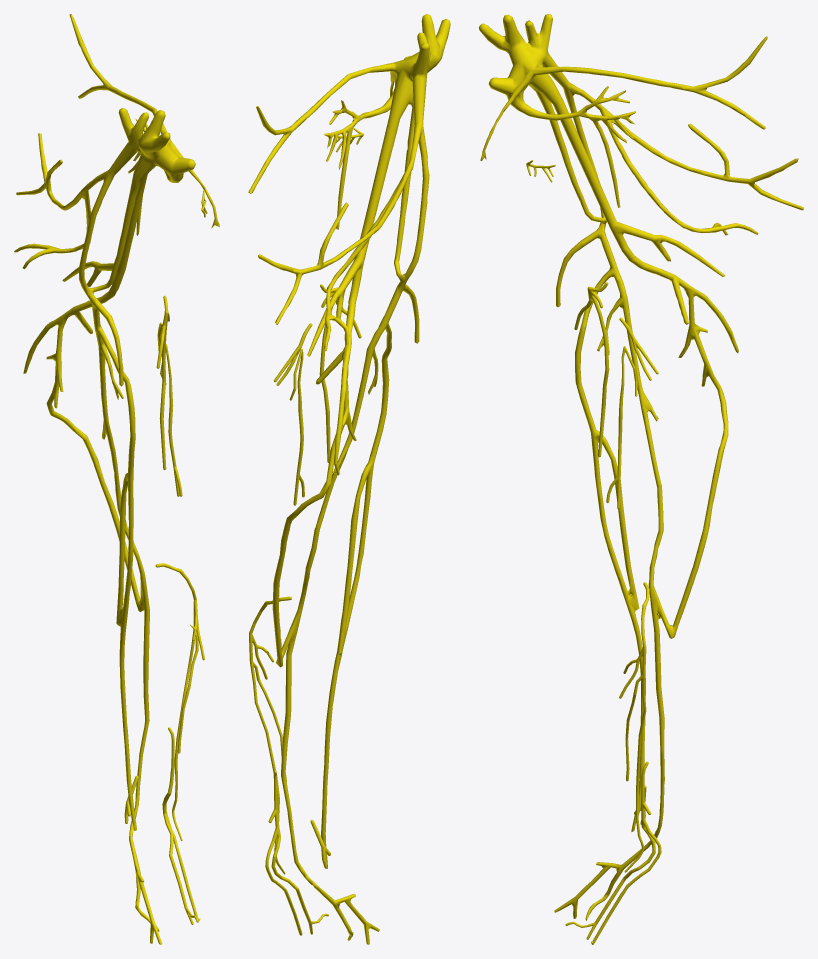
Rendered from Nerves.glb.
3 views of the same model, side by side, from view 1: azimuth 30°, elevation 25°; view 2: azimuth 150°, elevation 25°; view 3: azimuth 270°, elevation 25° (orthographic). The views are drawn at different scales.
Visible parts, largest first — view 1: PM3D_nerves_3.001, PM3D_ZSphere3.001, PM3D_ZSphere2.001, PM3D_ZSphere1_3.001, PM3D_ZSphere1_2.001; view 2: PM3D_nerves_3.001, PM3D_ZSphere3.001, PM3D_ZSphere2.001, PM3D_ZSphere1_2.001, PM3D_ZSphere1_3.001; view 3: PM3D_nerves_3.001, PM3D_ZSphere3.001, PM3D_ZSphere2.001, PM3D_ZSphere1_3.001, PM3D_ZSphere1_2.001.
Part boxes in pixels (<box>): PM3D_nerves_3.001: <box>14,14,219,944</box>; PM3D_ZSphere3.001: <box>155,563,204,840</box>; PM3D_ZSphere2.001: <box>162,727,200,924</box>; PM3D_ZSphere1_3.001: <box>156,295,169,470</box>; PM3D_ZSphere1_2.001: <box>160,344,182,496</box>; PM3D_nerves_3.001: <box>248,14,450,944</box>; PM3D_ZSphere3.001: <box>249,596,291,874</box>; PM3D_ZSphere2.001: <box>265,770,328,935</box>; PM3D_ZSphere1_2.001: <box>289,349,304,505</box>; PM3D_ZSphere1_3.001: <box>319,284,361,462</box>; PM3D_nerves_3.001: <box>479,14,803,920</box>; PM3D_ZSphere3.001: <box>619,582,649,872</box>; PM3D_ZSphere2.001: <box>565,761,661,944</box>; PM3D_ZSphere1_3.001: <box>574,282,609,457</box>; PM3D_ZSphere1_2.001: <box>606,346,637,509</box>.
Bounding box in the file's own units: 0.2097 × 1.23 × 0.4075.
Materials: 8 (8 with a texture image).
